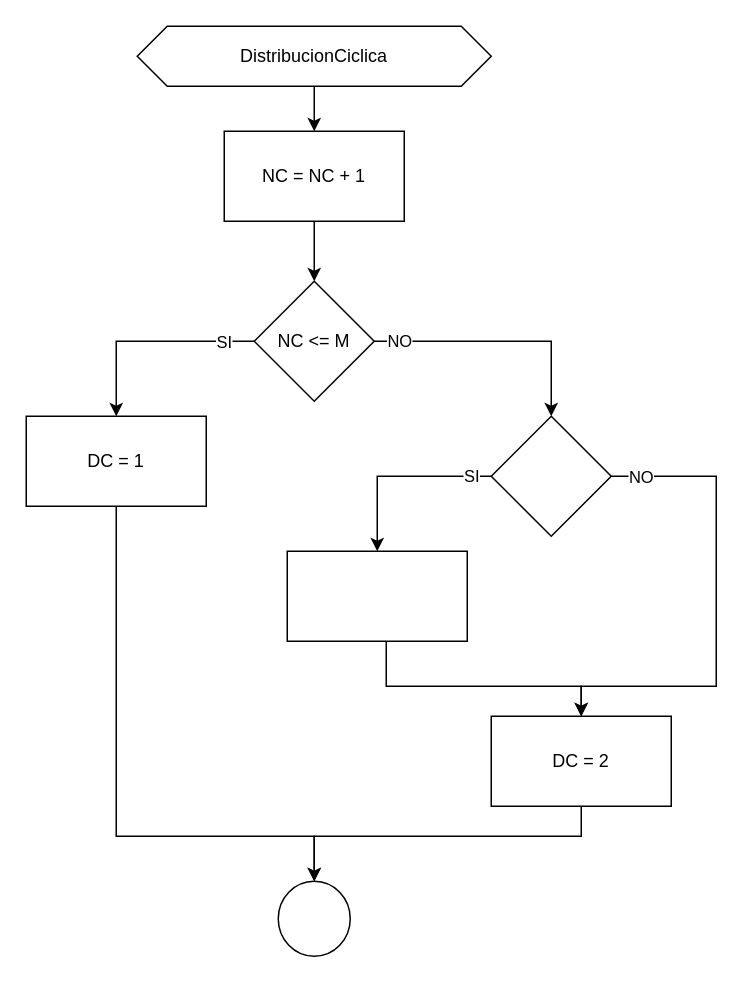
This 755x983 diagram has some shape labels left out. Each missing label, with the centre of its shape:
DC: point 313,918
NC = 0: point 376,595
NC = M + N: point 550,475
